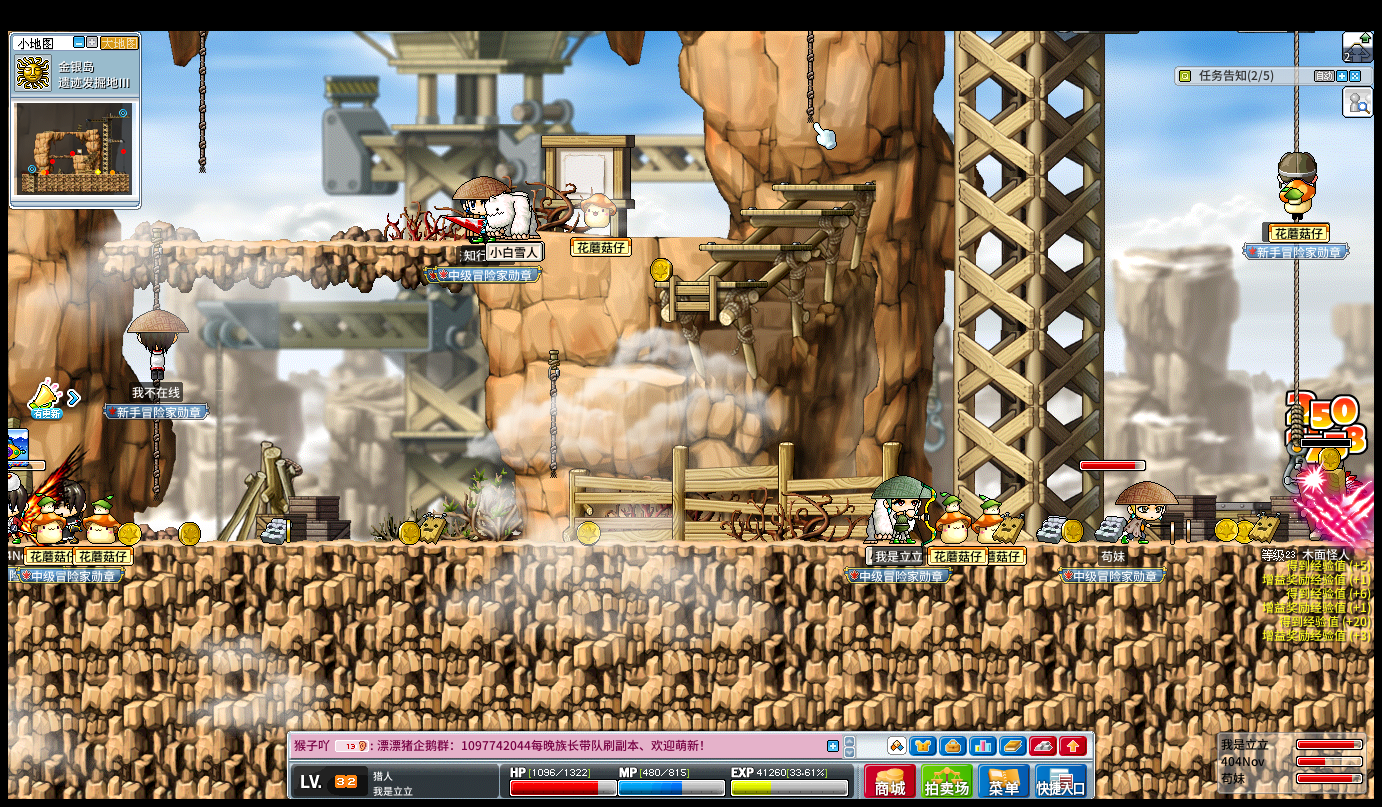floor: (107, 238, 479, 249), (578, 368, 689, 389), (601, 231, 735, 239), (649, 278, 768, 287), (697, 242, 813, 250), (737, 207, 852, 215), (770, 184, 877, 191)
monster: (1287, 450, 1365, 540)
rope: (546, 350, 561, 480), (198, 32, 207, 173), (1293, 256, 1302, 391), (152, 227, 163, 307), (805, 29, 814, 124), (1292, 30, 1299, 148), (152, 420, 160, 502)
